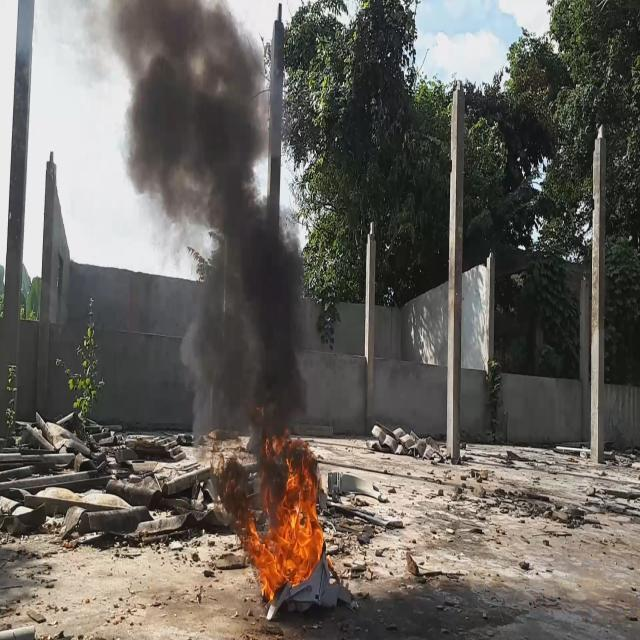Fire: (245, 438, 326, 597)
Smoke: (86, 0, 308, 524)
